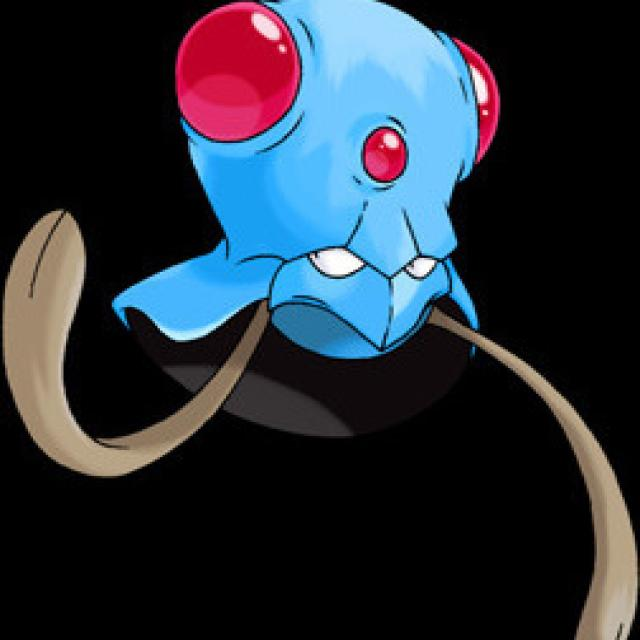Tentacool: (112, 0, 546, 480)
